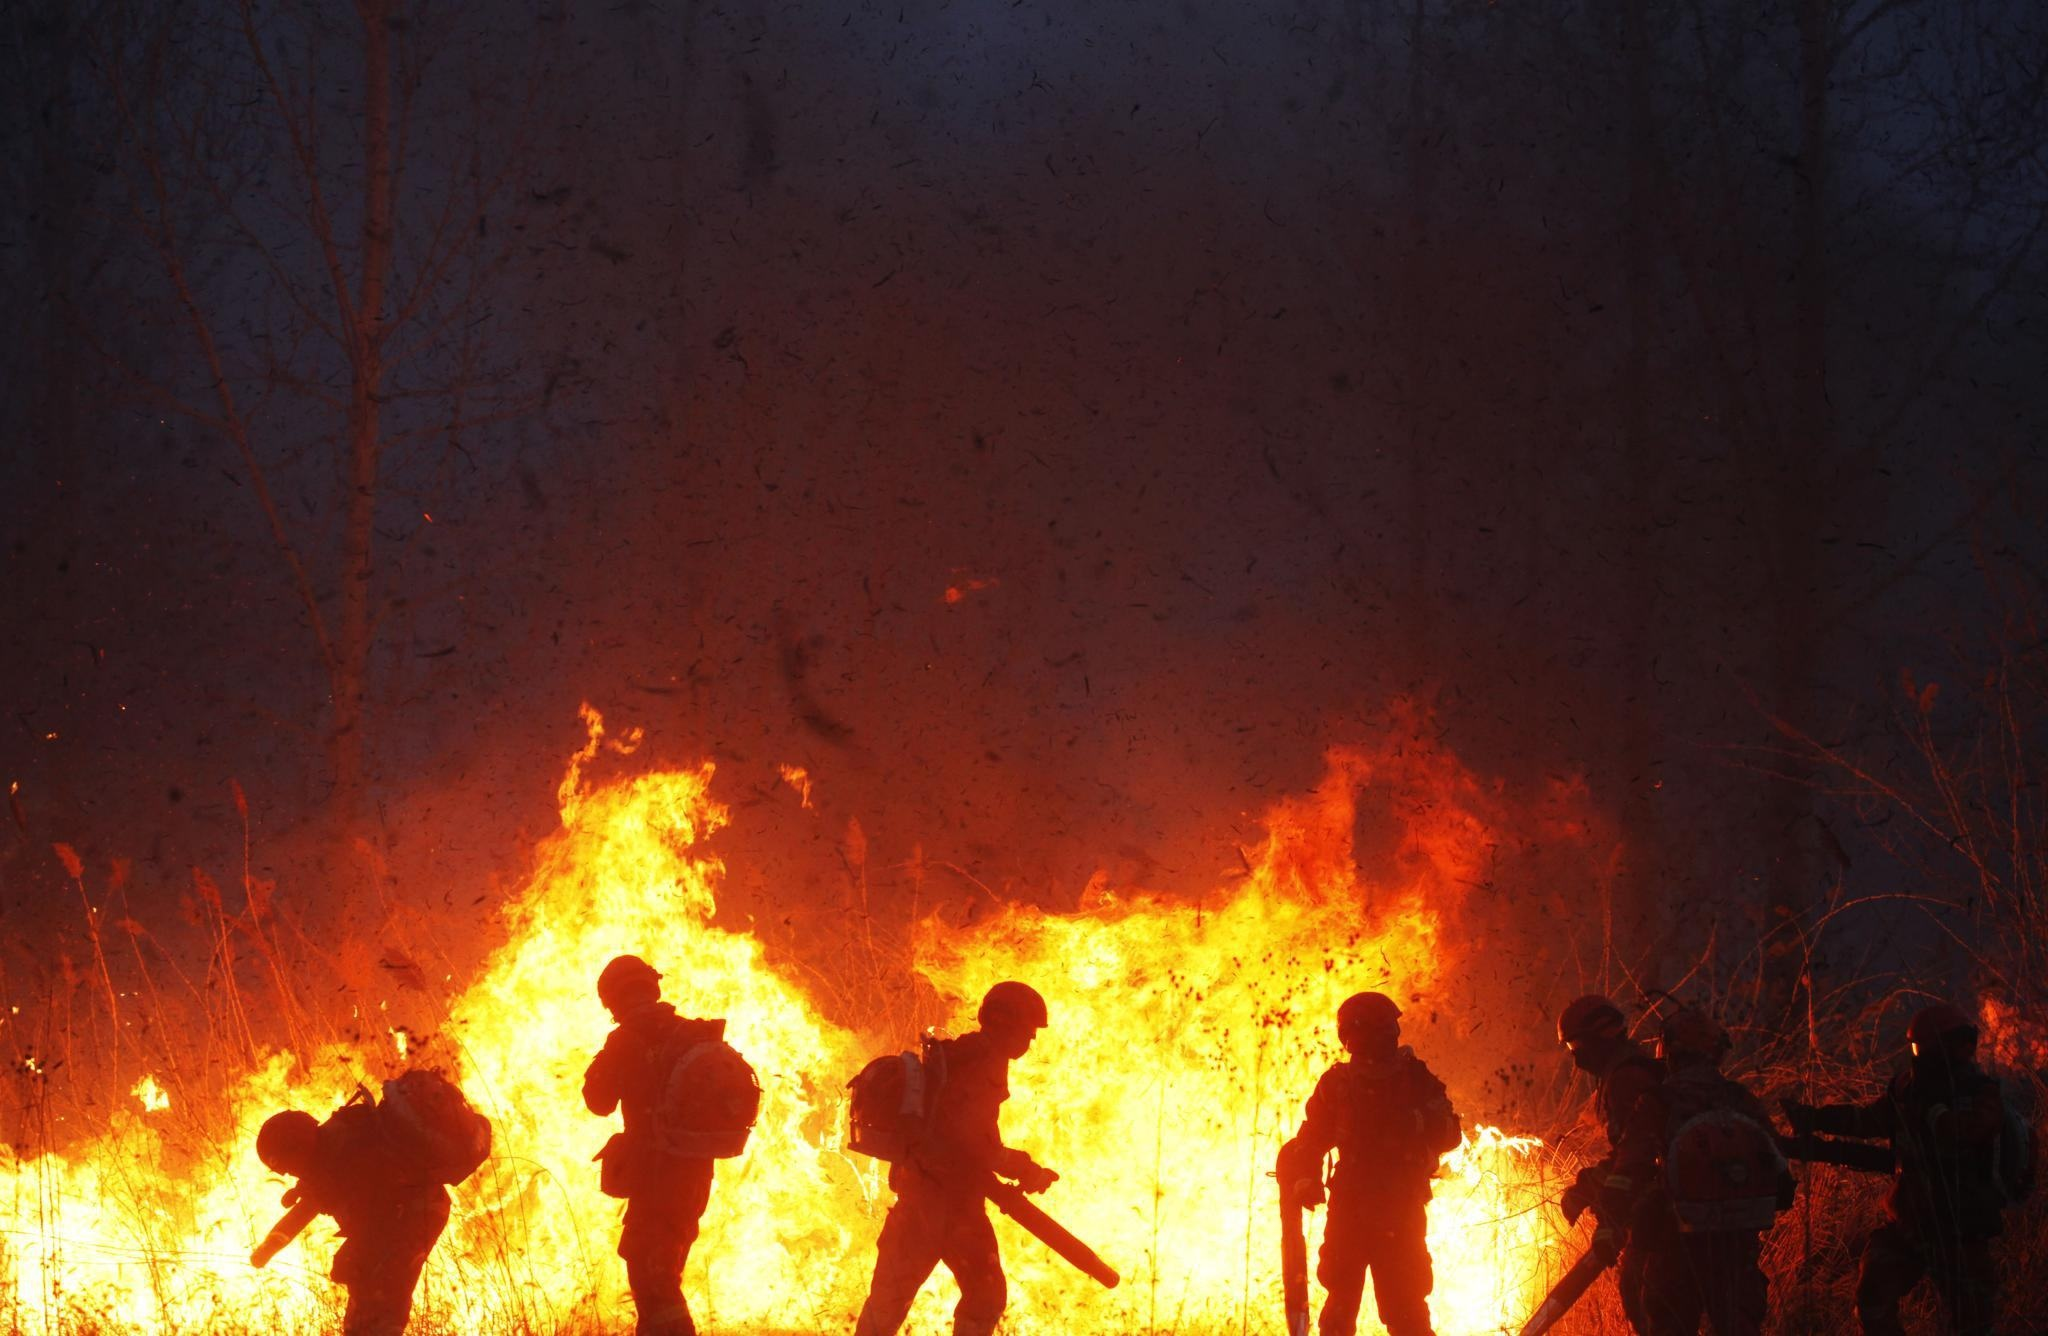fire: (1, 722, 1565, 1336)
